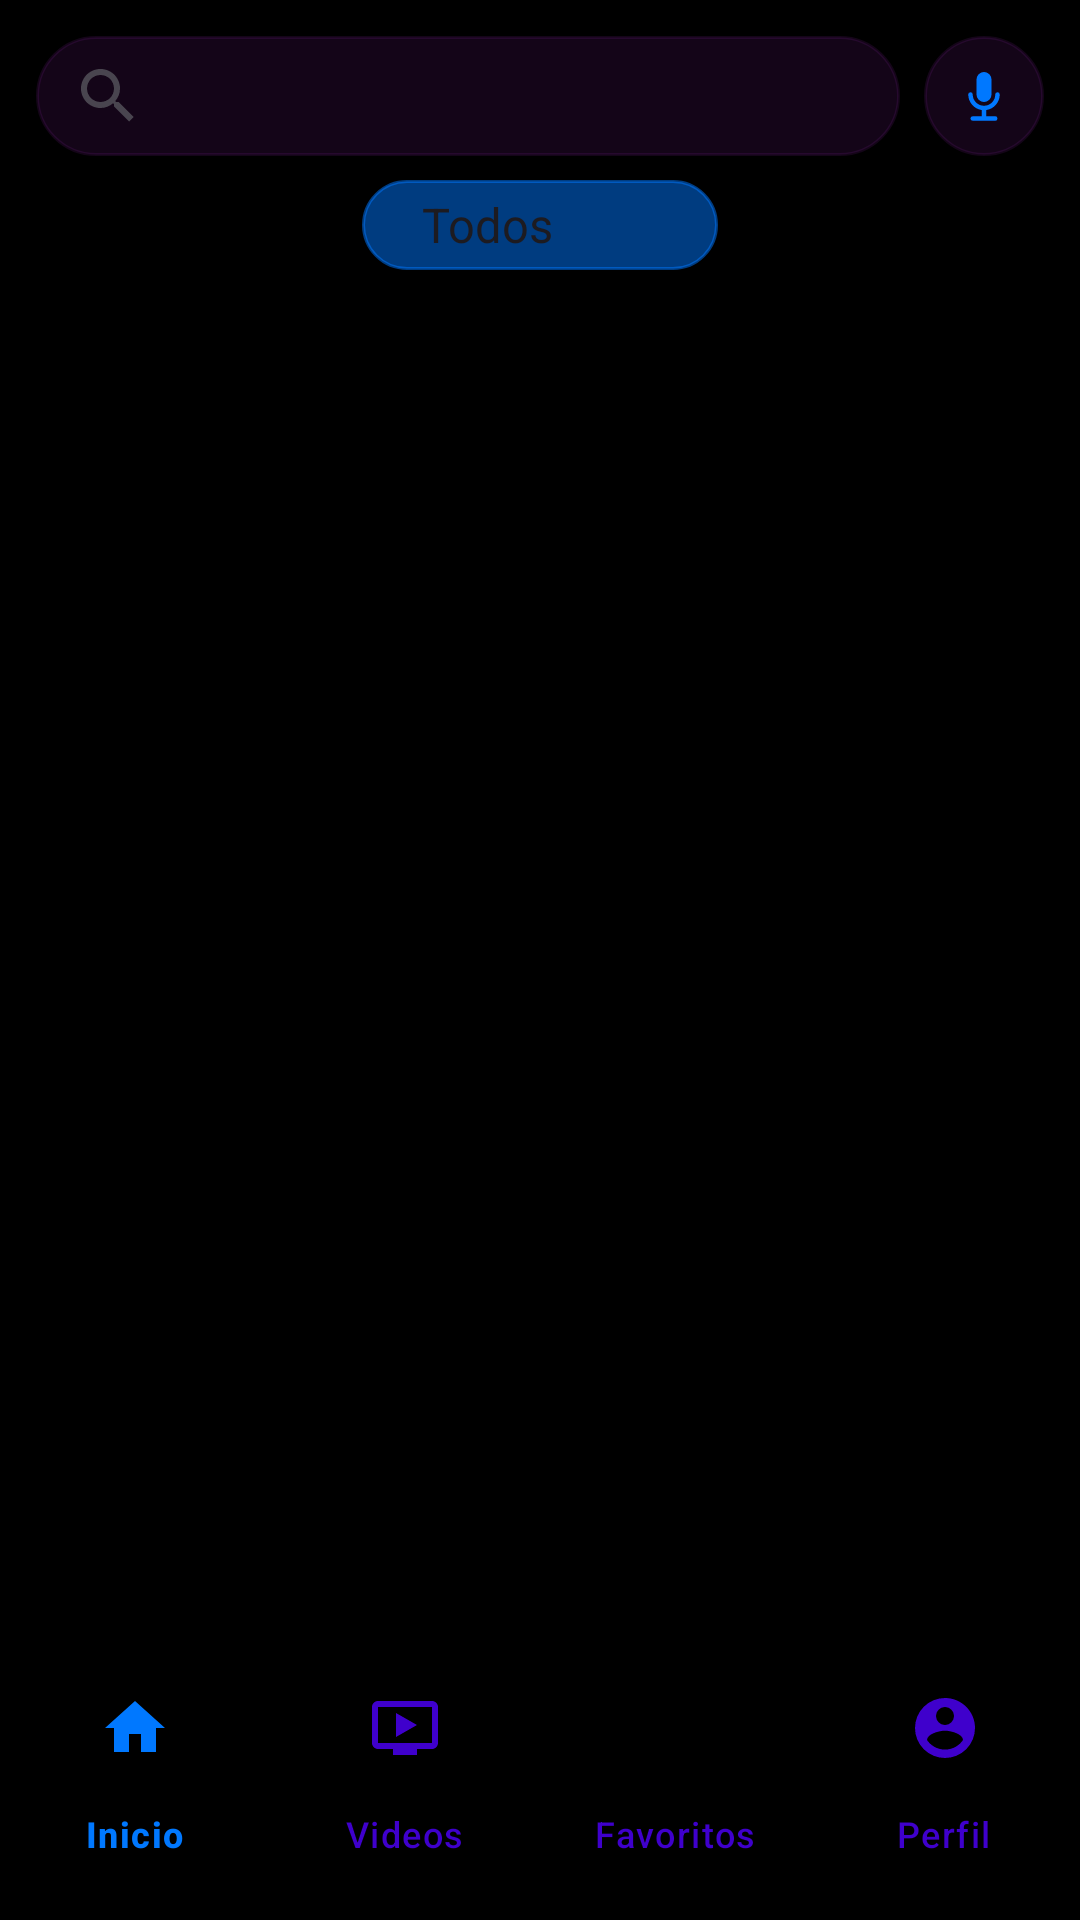

Screen size 1080*1920. Icon name, then its center in pixels as [x,y]:
Buscar por voz: [984,96]
